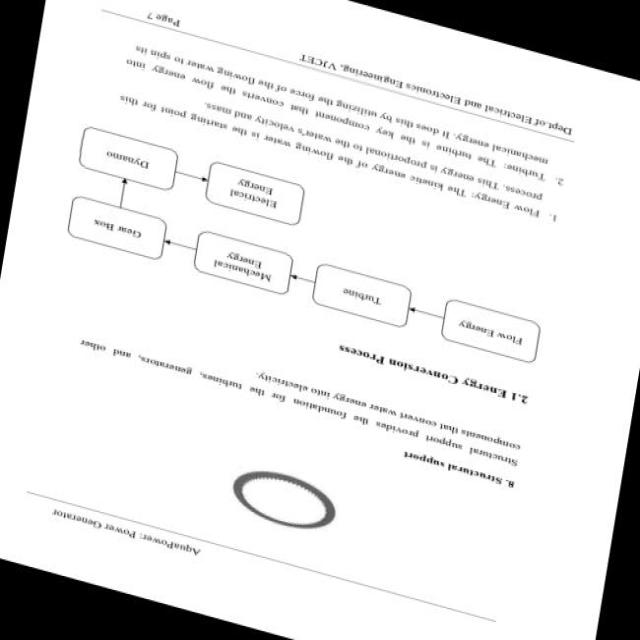Figure Detection - v3 Dataset Version2: (53, 108, 568, 381)
